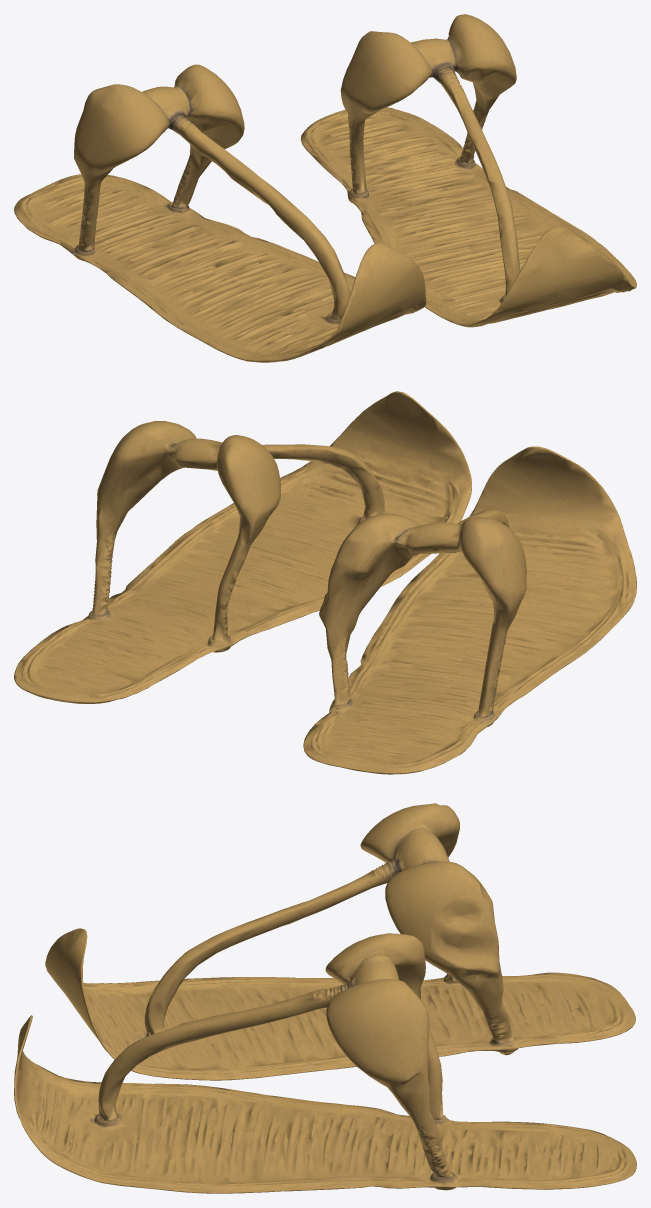
File: sandals-ai.glb
3 views of the same model, one above another, from view 1: azimuth 30°, elevation 25°; view 2: azimuth 150°, elevation 25°; view 3: azimuth 270°, elevation 25° (orthographic). The views are drawn at different scales.
Size of the model in its own units: 1.59 by 0.6816 by 1.9.
1 material, 1 textured.
